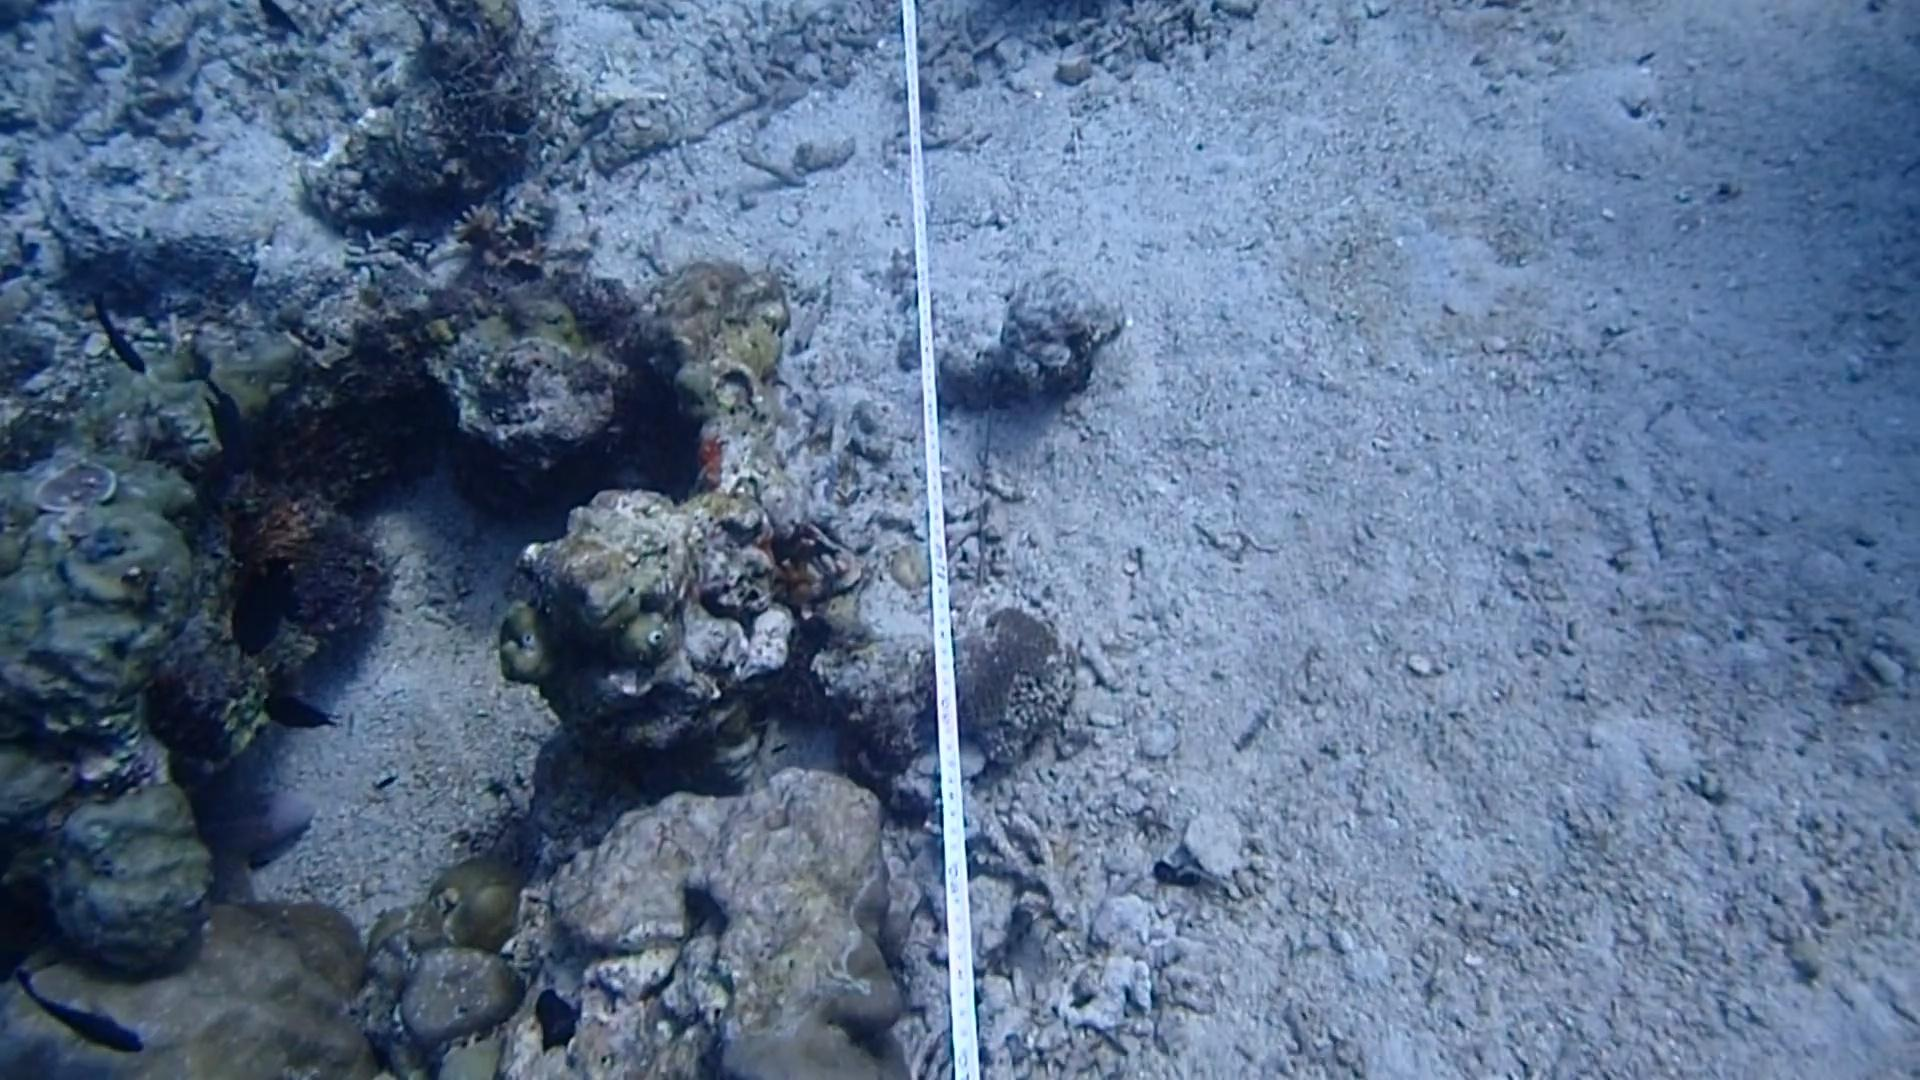Dark Fish: (11, 956, 157, 1063), (212, 546, 311, 661), (78, 287, 166, 381), (245, 675, 344, 756), (198, 367, 261, 467)
